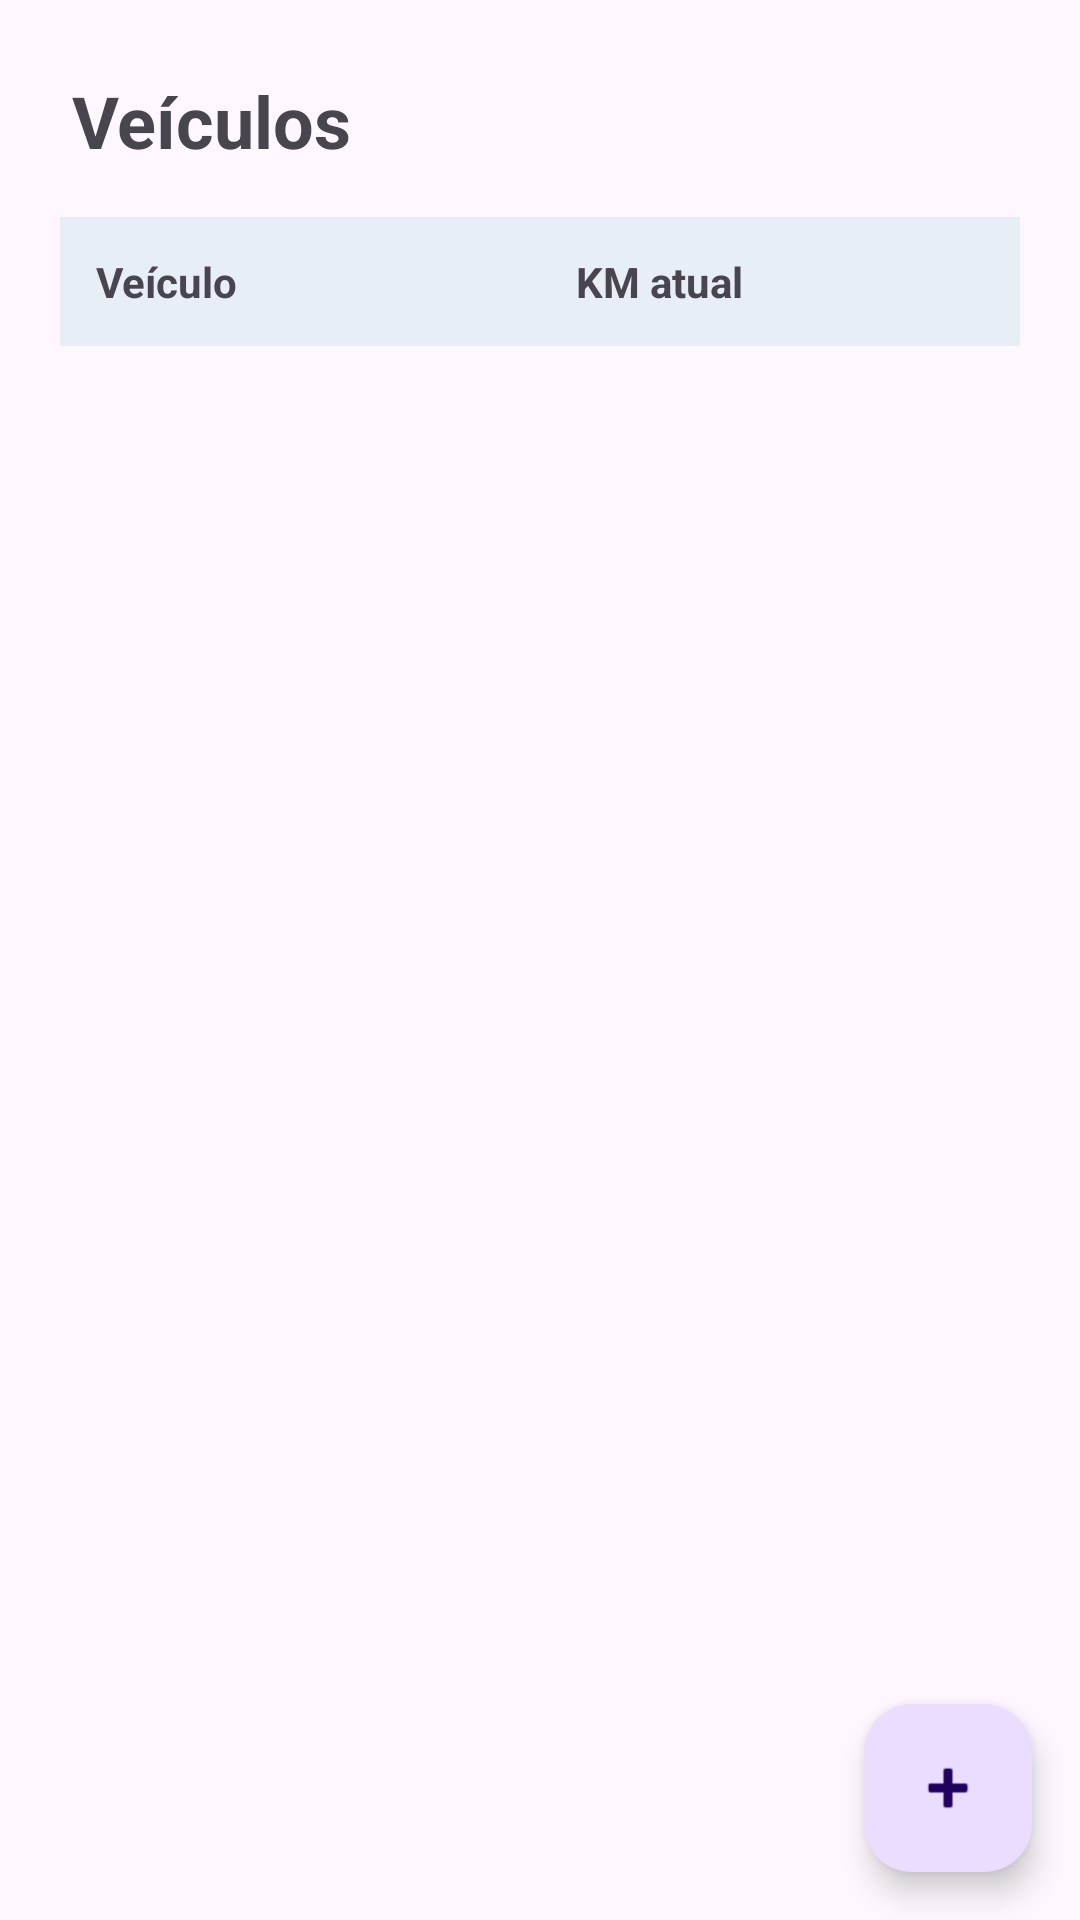

Where to tap for icons on this 1080 x 1920 app screen, as (x,y):
Adicionar veículo: (948,1788)
